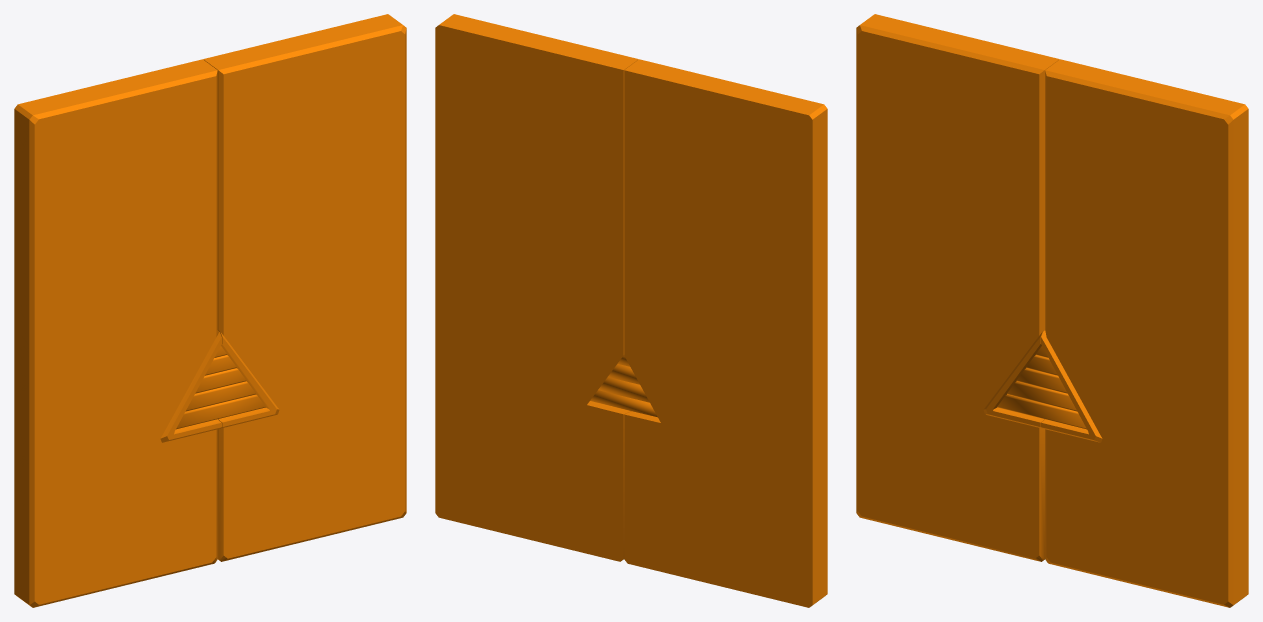
File: SM_Porte_01.fbx
3 views of the same model, side by side, from view 1: azimuth 30°, elevation 25°; view 2: azimuth 150°, elevation 25°; view 3: azimuth 330°, elevation 25° (orthographic).
Visible parts, largest first — view 1: Porte_01_l, Porte_02_l, Poutre_01_l, Poutre_02_l, Poutre_03_l; view 2: Porte_01_l, Porte_02_l, Poutre_01_l, Poutre_02_l; view 3: Porte_02_l, Porte_01_l, Poutre_01_l, Poutre_02_l, Poutre_03_l.
Boxes of the visible parts, x1,y1,x2,y2 form: Porte_01_l: (14,59,221,607); Porte_02_l: (203,14,406,561); Poutre_01_l: (176,394,265,429); Poutre_02_l: (185,381,255,411); Poutre_03_l: (195,368,246,393); Porte_01_l: (624,59,827,607); Porte_02_l: (435,14,638,561); Poutre_01_l: (590,390,657,417); Poutre_02_l: (598,377,649,402); Porte_02_l: (1041,59,1248,607); Porte_01_l: (856,14,1059,561); Poutre_01_l: (997,394,1086,429); Poutre_02_l: (1007,381,1077,411); Poutre_03_l: (1016,368,1067,393).
Bounding box in the file's own units: 320 × 400 × 28.16.
